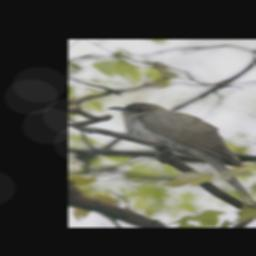Cuckoo: (108, 102, 256, 208)
